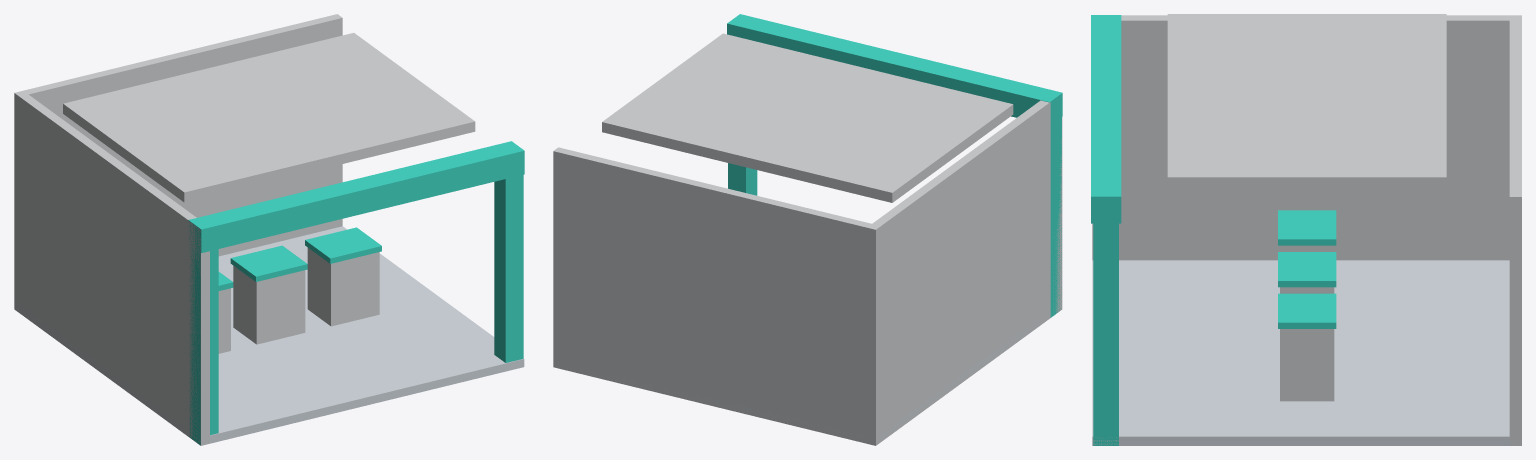
3 renders of one model, left to right at view 1: azimuth 30°, elevation 25°; view 2: azimuth 150°, elevation 25°; view 3: azimuth 270°, elevation 25°, orthographic. The views are drawn at different scales.
Visible parts, largest first — view 1: Exhibition Booth Concept; view 2: Exhibition Booth Concept; view 3: Exhibition Booth Concept.
Part boxes in pixels (x1=…): Exhibition Booth Concept: x1=14, y1=14, x2=524, y2=445; Exhibition Booth Concept: x1=553, y1=14, x2=1062, y2=445; Exhibition Booth Concept: x1=1091, y1=14, x2=1521, y2=445.
Bounding box in the file's own units: 5 × 3.34 × 5.02.
